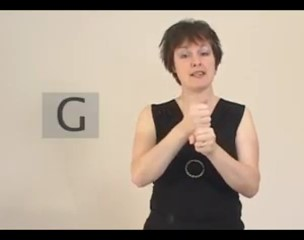G: (182, 97, 221, 164)
